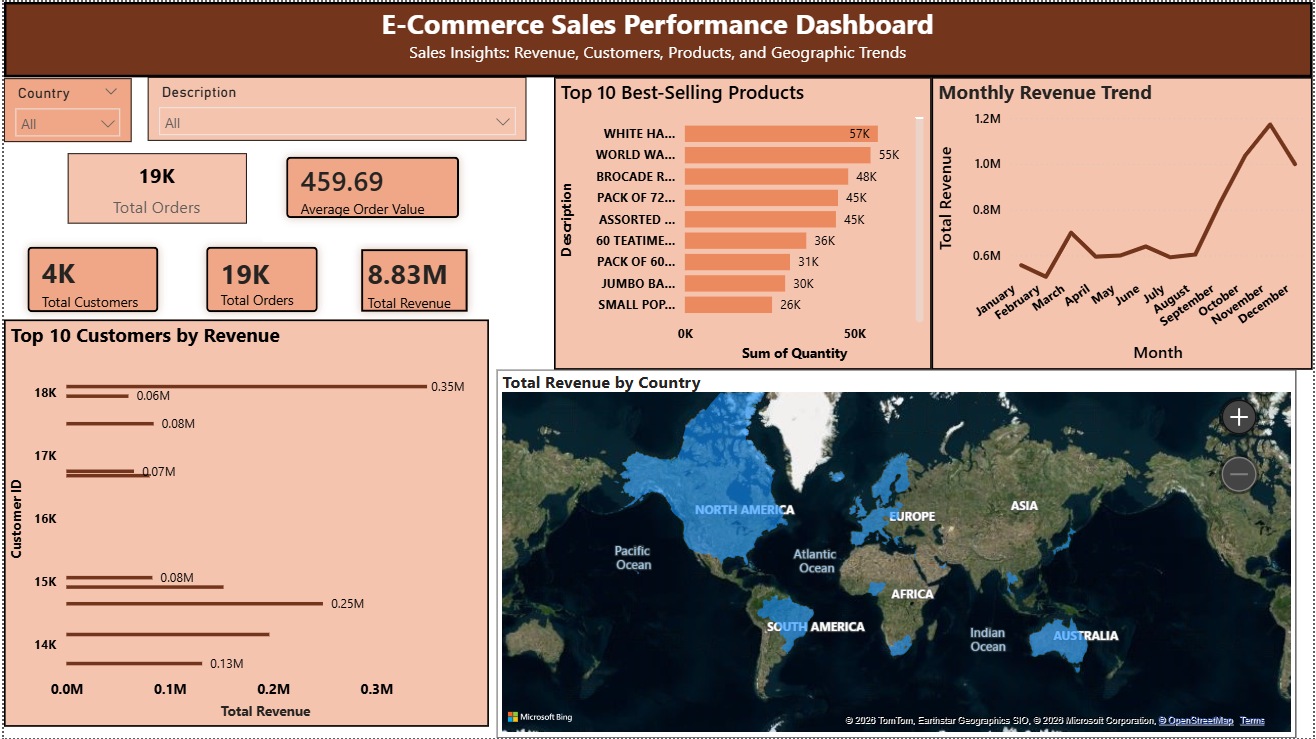

The dashboard page shown, as its layout file describes it:
{"tool":"powerbi","page":{"name":"Page 1","canvas":[1280,720],"ordinal":0},"visuals":[{"type":"cardVisual","fields":{"Data":["cleaned1_ecommerce_data.Total Revenue"]},"box":[326.5,218.9,150.4,107.6],"z":0},{"type":"cardVisual","fields":{"Data":["cleaned1_ecommerce_data.Total Orders"]},"box":[174.9,216.4,155.3,110.1],"z":1000},{"type":"cardVisual","fields":{"Data":["cleaned1_ecommerce_data.Total Customers"]},"box":[0,216.4,174.9,110.1],"z":2000},{"type":"cardVisual","fields":{"Data":["cleaned1_ecommerce_data.Average Order Value"]},"box":[253.1,128.4,215.2,106.4],"z":3000},{"type":"lineChart","title":"Monthly Revenue Trend","fields":{"Y":["cleaned1_ecommerce_data.Total Revenue"],"Category":["cleaned1_ecommerce_data.InvoiceDate.Variation.Date Hierarchy.Month"]},"box":[907.3,73.4,373,286.1],"z":4000},{"type":"clusteredBarChart","title":"Top 10 Best-Selling Products","fields":{"Category":["cleaned1_ecommerce_data.Description"],"Y":["Sum(cleaned1_ecommerce_data.Quantity)"]},"box":[538,73.4,369.3,286.1],"z":5000},{"type":"filledMap","fields":{"Category":["cleaned1_ecommerce_data.Country"]},"box":[481.8,359.5,782.6,360.7],"z":6000},{"type":"clusteredBarChart","title":"Top 10 Customers by Revenue","fields":{"Y":["cleaned1_ecommerce_data.Total Revenue"],"Category":["cleaned1_ecommerce_data.Customer ID"]},"box":[0,310.6,474.5,398.6],"z":7000},{"type":"slicer","fields":{"Values":["cleaned1_ecommerce_data.Country"]},"box":[0,74.6,124.7,62.4],"z":8000},{"type":"slicer","fields":{"Values":["cleaned1_ecommerce_data.Description"]},"box":[140.6,73.4,370.5,62.4],"z":9000},{"type":"card","fields":{"Values":["cleaned1_ecommerce_data.Total Orders"]},"box":[62.4,148,174.9,68.5],"z":10000},{"type":"textbox","box":[0,0,1280.3,73.4],"z":10001}]}

Visuals, with their boxes in screenshot pixels (x1, y1, x2, y2), scaled from the page's 1280x720 canvas onto the 1316x739 screenshot:
cardVisual - cleaned1_ecommerce_data.Total Revenue: l=336, t=225, r=490, b=335
cardVisual - cleaned1_ecommerce_data.Total Orders: l=180, t=222, r=339, b=335
cardVisual - cleaned1_ecommerce_data.Total Customers: l=0, t=222, r=180, b=335
cardVisual - cleaned1_ecommerce_data.Average Order Value: l=260, t=132, r=481, b=241
"Monthly Revenue Trend" lineChart: l=933, t=75, r=1315, b=369
"Top 10 Best-Selling Products" clusteredBarChart: l=553, t=75, r=933, b=369
filledMap - cleaned1_ecommerce_data.Country: l=495, t=369, r=1300, b=738
"Top 10 Customers by Revenue" clusteredBarChart: l=0, t=319, r=488, b=728
slicer - cleaned1_ecommerce_data.Country: l=0, t=77, r=128, b=141
slicer - cleaned1_ecommerce_data.Description: l=145, t=75, r=525, b=139
card - cleaned1_ecommerce_data.Total Orders: l=64, t=152, r=244, b=222
textbox: l=0, t=0, r=1315, b=75
